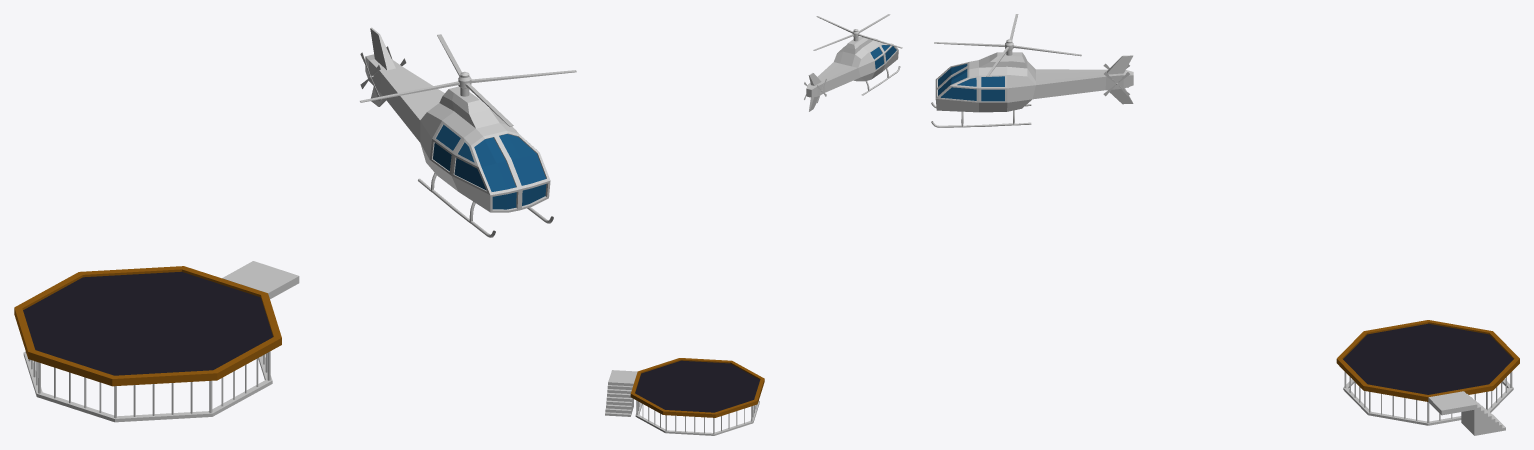
The model's file is copter_000047.obj.
The picture shows the model from 3 angles, left to right: view 1: azimuth 30°, elevation 25°; view 2: azimuth 150°, elevation 25°; view 3: azimuth 270°, elevation 25°; orthographic projection. The views are drawn at different scales.
Visible parts, largest first — view 1: Cylinder.001_Cylinder.012, Helicopter.007_Cylinder.008, Helicopter.001_Cylinder.001, Cylinder.004; view 2: Cylinder.001_Cylinder.012, Helicopter.007_Cylinder.008, Helicopter.001_Cylinder.001; view 3: Cylinder.001_Cylinder.012, Helicopter.007_Cylinder.008, Helicopter.001_Cylinder.001.
Part boxes in pixels (<box>): Cylinder.001_Cylinder.012: <box>14,261,299,422</box>; Helicopter.007_Cylinder.008: <box>365,27,553,237</box>; Helicopter.001_Cylinder.001: <box>360,34,576,126</box>; Cylinder.004: <box>133,358,258,416</box>; Cylinder.001_Cylinder.012: <box>605,358,764,435</box>; Helicopter.007_Cylinder.008: <box>806,36,900,111</box>; Helicopter.001_Cylinder.001: <box>813,14,902,50</box>; Cylinder.001_Cylinder.012: <box>1336,320,1519,435</box>; Helicopter.007_Cylinder.008: <box>931,52,1133,127</box>; Helicopter.001_Cylinder.001: <box>934,14,1081,76</box>.
Bounding box in the file's own units: 7.94 × 14.27 × 21.76.
